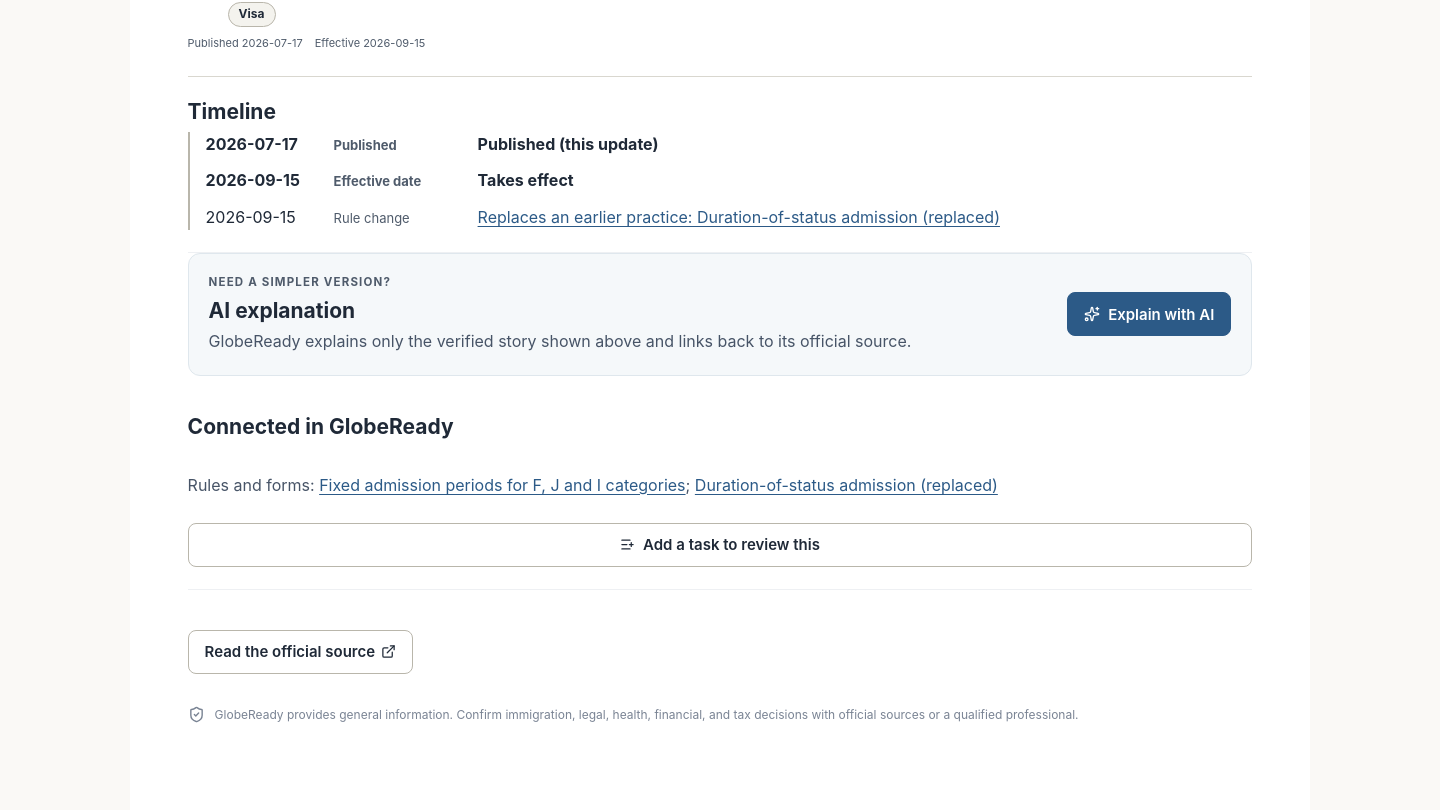
it: update detail connections › explains a failure and offers no task button without sign-in
The width and height of the screenshot is (1440, 810).
(page scrolled)
Click the button "Add a task to review this": (720,545) [188,523,1252,567]
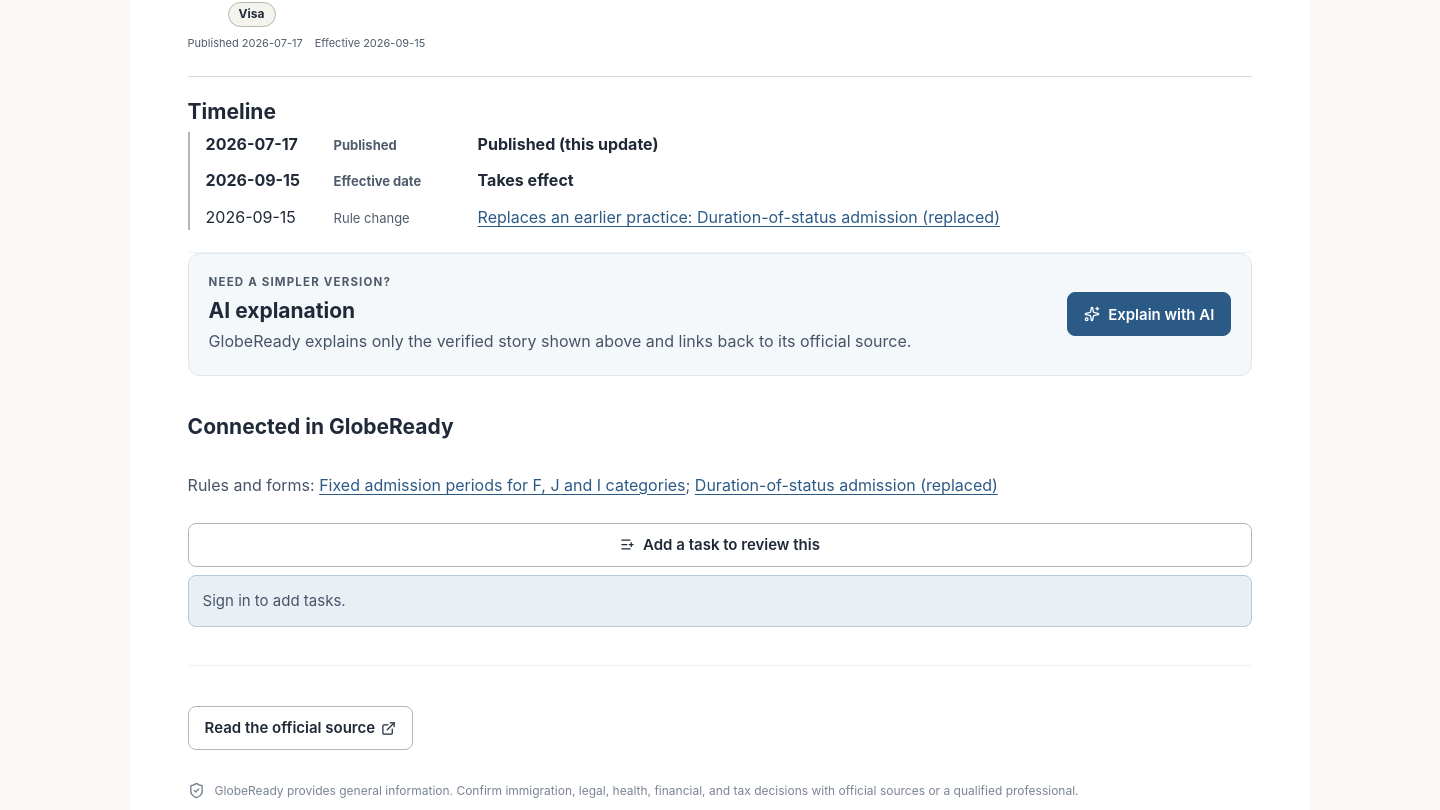
Expected: the message shows "Sign in", [203,591,346,610]
